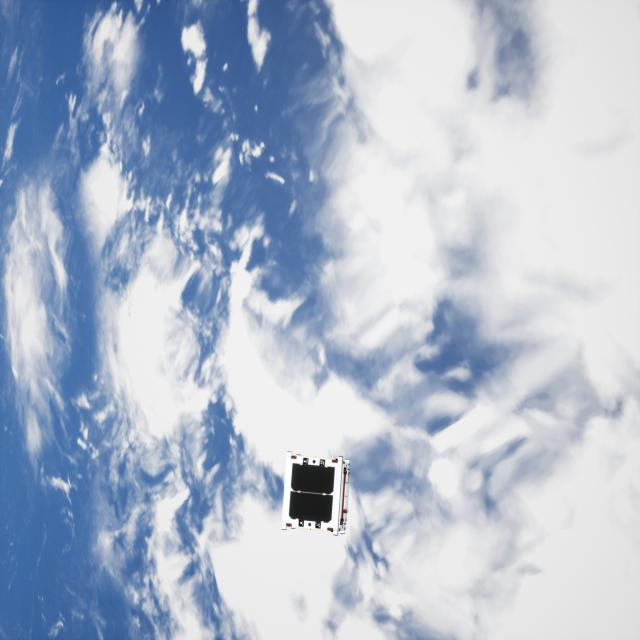medium_debris: (284, 450, 354, 539)
